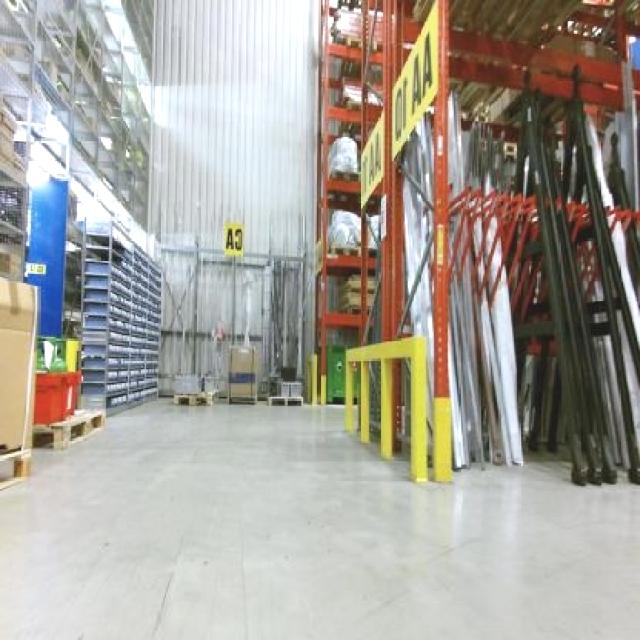floor: (0, 398, 637, 637)
pallets: (80, 220, 158, 406), (0, 276, 35, 486)
